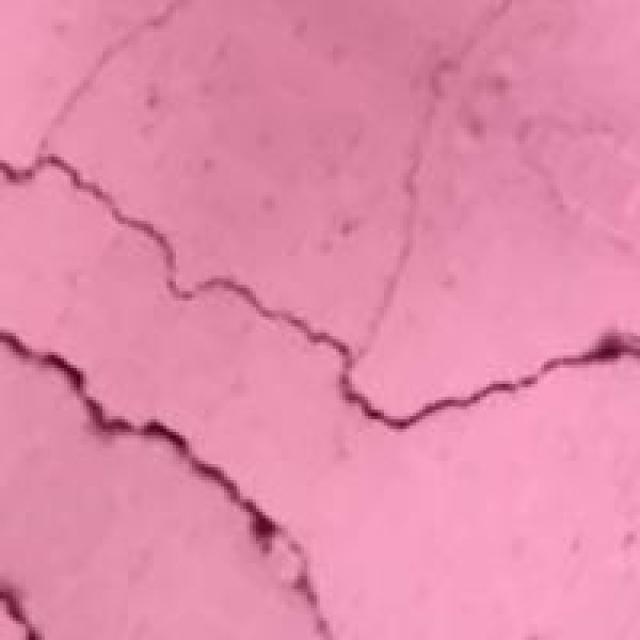Crack: (0, 150, 634, 637)
